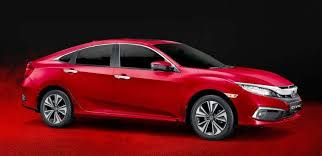Honda: (21, 38, 302, 141)
